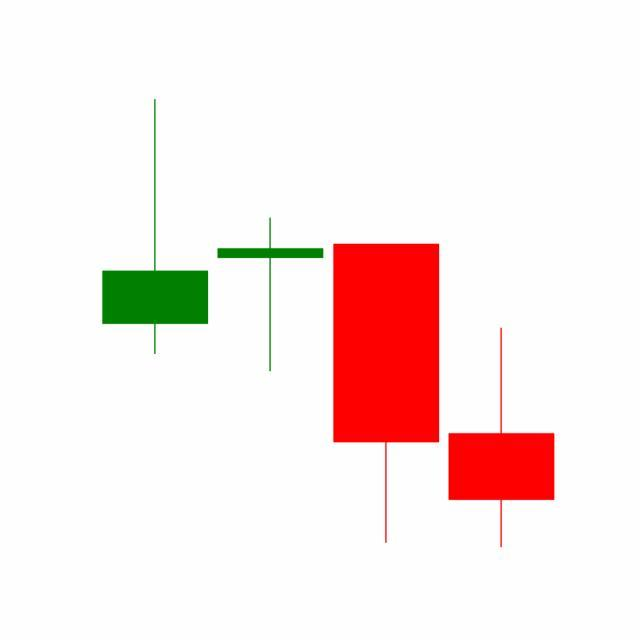Three Outside Up-Down: (211, 214, 555, 548)
